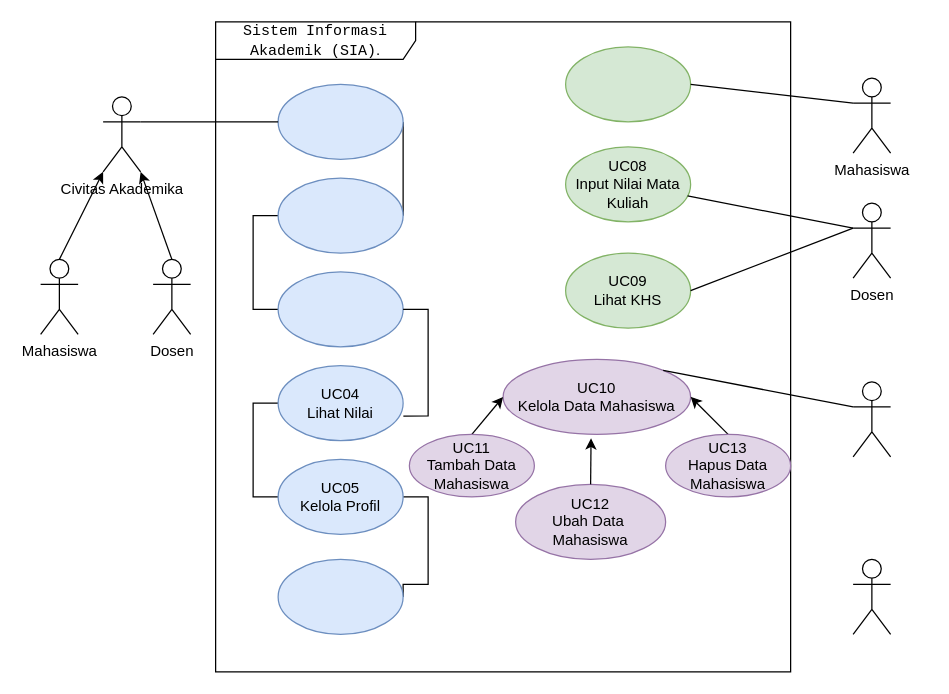
This 949x694 diagram has some shape labels left out. The shapes that lost their labels are listed below. From the top down, each one's centre as x and y in pixels, then its label:
the point at 627,84: UC07 Lihat Kalender Akademik
the point at 340,121: UC01 Lihat Informasi AKademik
the point at 340,215: UC02 Ajukan KRS
the point at 340,309: UC03 Lihat Jadwal Kuliah
the point at 871,419: Admin Akademik
the point at 340,596: UC06 Lihat Pengumuman
the point at 871,596: Dosen Wali
